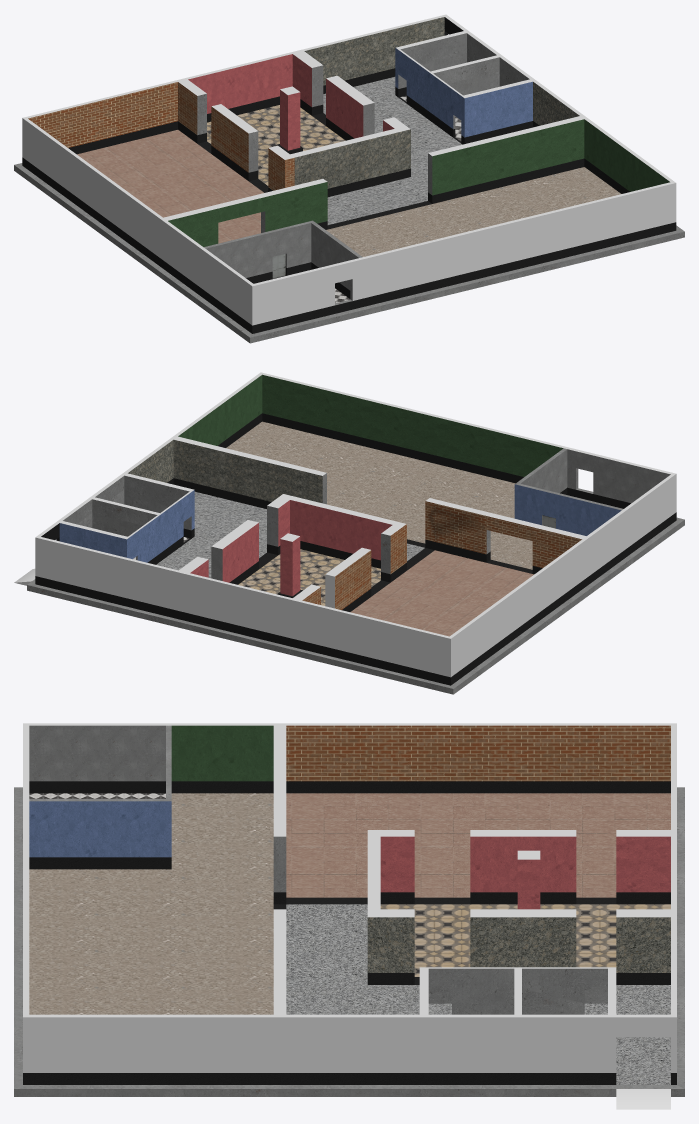
Rendered from Map21_9MainframeFix.fbx.
The picture shows the model from 3 angles, top to bottom: view 1: azimuth 30°, elevation 25°; view 2: azimuth 150°, elevation 25°; view 3: azimuth 270°, elevation 25°; orthographic projection. The views are drawn at different scales.
Visible parts, largest first — view 1: MainFrame; view 2: MainFrame; view 3: MainFrame.
Boxes of the visible parts, <box> form: MainFrame: <box>14,14,684,343</box>; MainFrame: <box>14,372,684,694</box>; MainFrame: <box>14,723,684,1109</box>.
Bounding box in the file's own units: 5356 × 746 × 4834.
